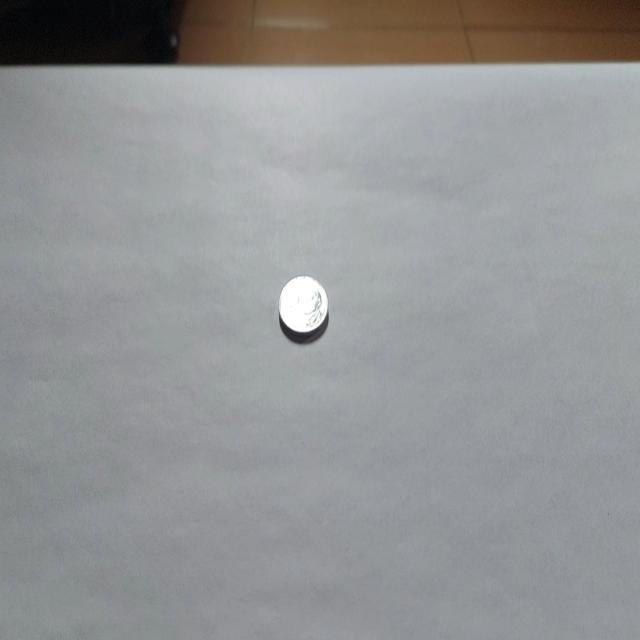lima ratus rupiah: (277, 272, 329, 342)
